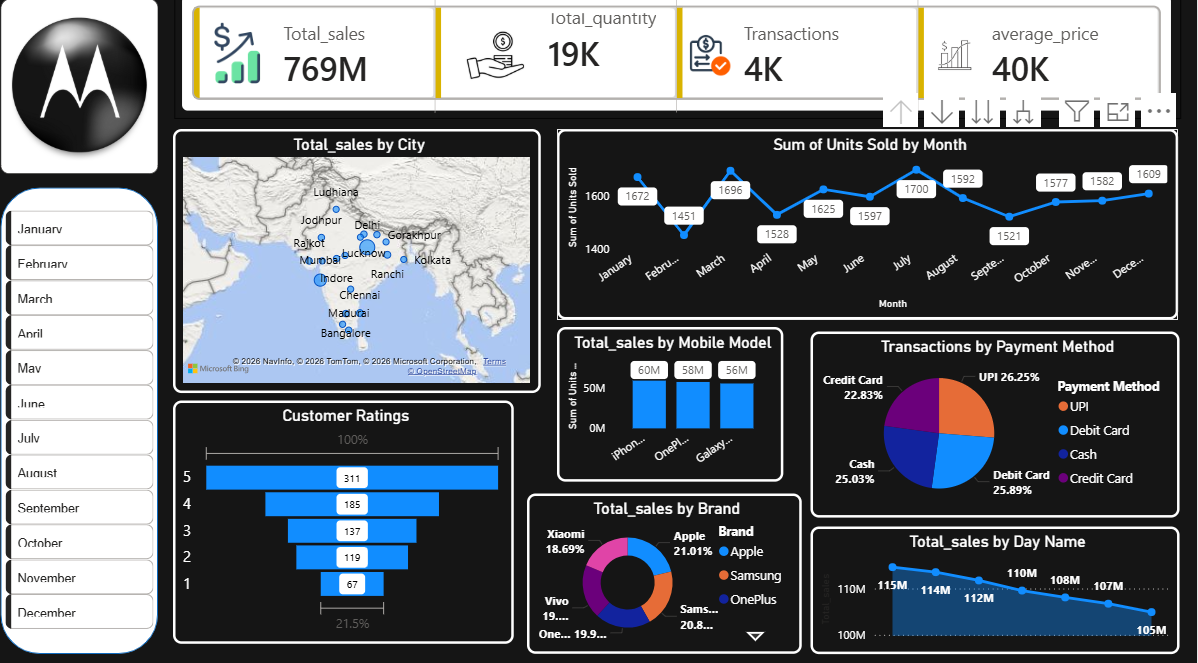

What the dashboard file says about the page in this screenshot:
{"tool":"powerbi","page":{"name":"Page 1","canvas":[1280,720],"ordinal":0},"visuals":[{"type":"image","box":[11.1,11.1,167,186.1],"z":0},{"type":"shape","box":[11.1,211.6,167,494.7],"z":1000},{"type":"advancedSlicerVisual","fields":{"Values":["Sales_Data.Date.Variation.Date Hierarchy.Month"]},"box":[11.1,230.6,167,458.1],"z":2000},{"type":"cardVisual","fields":{"Data":["Sales_Data.Total_sales","Sales_Data.Total_quantity","Sales_Data.Transactions","Sales_Data.average_price"]},"box":[195.6,0,1067.3,138.4],"z":3000},{"type":"map","fields":{"Category":["Sales_Data.City"],"Size":["Sales_Data.Total_sales"]},"box":[194.1,149.5,389.7,279.9],"z":4000},{"type":"lineChart","fields":{"Y":["Sum(Sales_Data.Units Sold)"],"Category":["Sales_Data.Date.Variation.Date Hierarchy.Month","Sales_Data.Date.Variation.Date Hierarchy.Day"]},"box":[601.3,149.5,658.5,202],"z":5000},{"type":"columnChart","fields":{"Category":["Sales_Data.Mobile Model"],"Y":["Sales_Data.Total_sales"]},"box":[601.3,359.5,240.2,163.8],"z":5001},{"type":"pieChart","fields":{"Category":["Sales_Data.Payment Method"],"Y":["Sales_Data.Transactions"]},"box":[870.1,364.2,391.3,197.2],"z":5002},{"type":"funnel","title":"Customer Ratings","fields":{"Category":["Sales_Data.Customer Ratings"],"Y":["CountNonNull(Sales_Data.Customer Ratings)"]},"box":[194.1,437.4,361.1,257.7],"z":5003},{"type":"areaChart","fields":{"Category":["Sales_Data.Day Name"],"Y":["Sales_Data.Total_sales"]},"box":[870.1,571,391.3,135.2],"z":5004},{"type":"donutChart","fields":{"Category":["Sales_Data.Brand"],"Y":["Sales_Data.Total_sales"]},"box":[569.4,536,291.1,170.2],"z":5005}]}

Visuals, with their boxes in screenshot pixels (x1, y1, x2, y2):
image: [0, 0, 156, 170]
shape: [0, 184, 156, 651]
advancedSlicerVisual - Sales_Data.Date.Variation.Date Hierarchy.Month: [0, 202, 156, 634]
cardVisual - Sales_Data.Total_sales x Sales_Data.Total_quantity: [172, 0, 1179, 115]
map - Sales_Data.City x Sales_Data.Total_sales: [171, 125, 538, 390]
lineChart - Sum(Sales_Data.Units Sold) x Sales_Data.Date.Variation.Date Hierarchy.Month: [555, 125, 1176, 316]
columnChart - Sales_Data.Mobile Model x Sales_Data.Total_sales: [555, 324, 782, 478]
pieChart - Sales_Data.Payment Method x Sales_Data.Transactions: [809, 328, 1178, 514]
"Customer Ratings" funnel: [171, 397, 511, 640]
areaChart - Sales_Data.Day Name x Sales_Data.Total_sales: [809, 523, 1178, 651]
donutChart - Sales_Data.Brand x Sales_Data.Total_sales: [525, 490, 800, 651]
